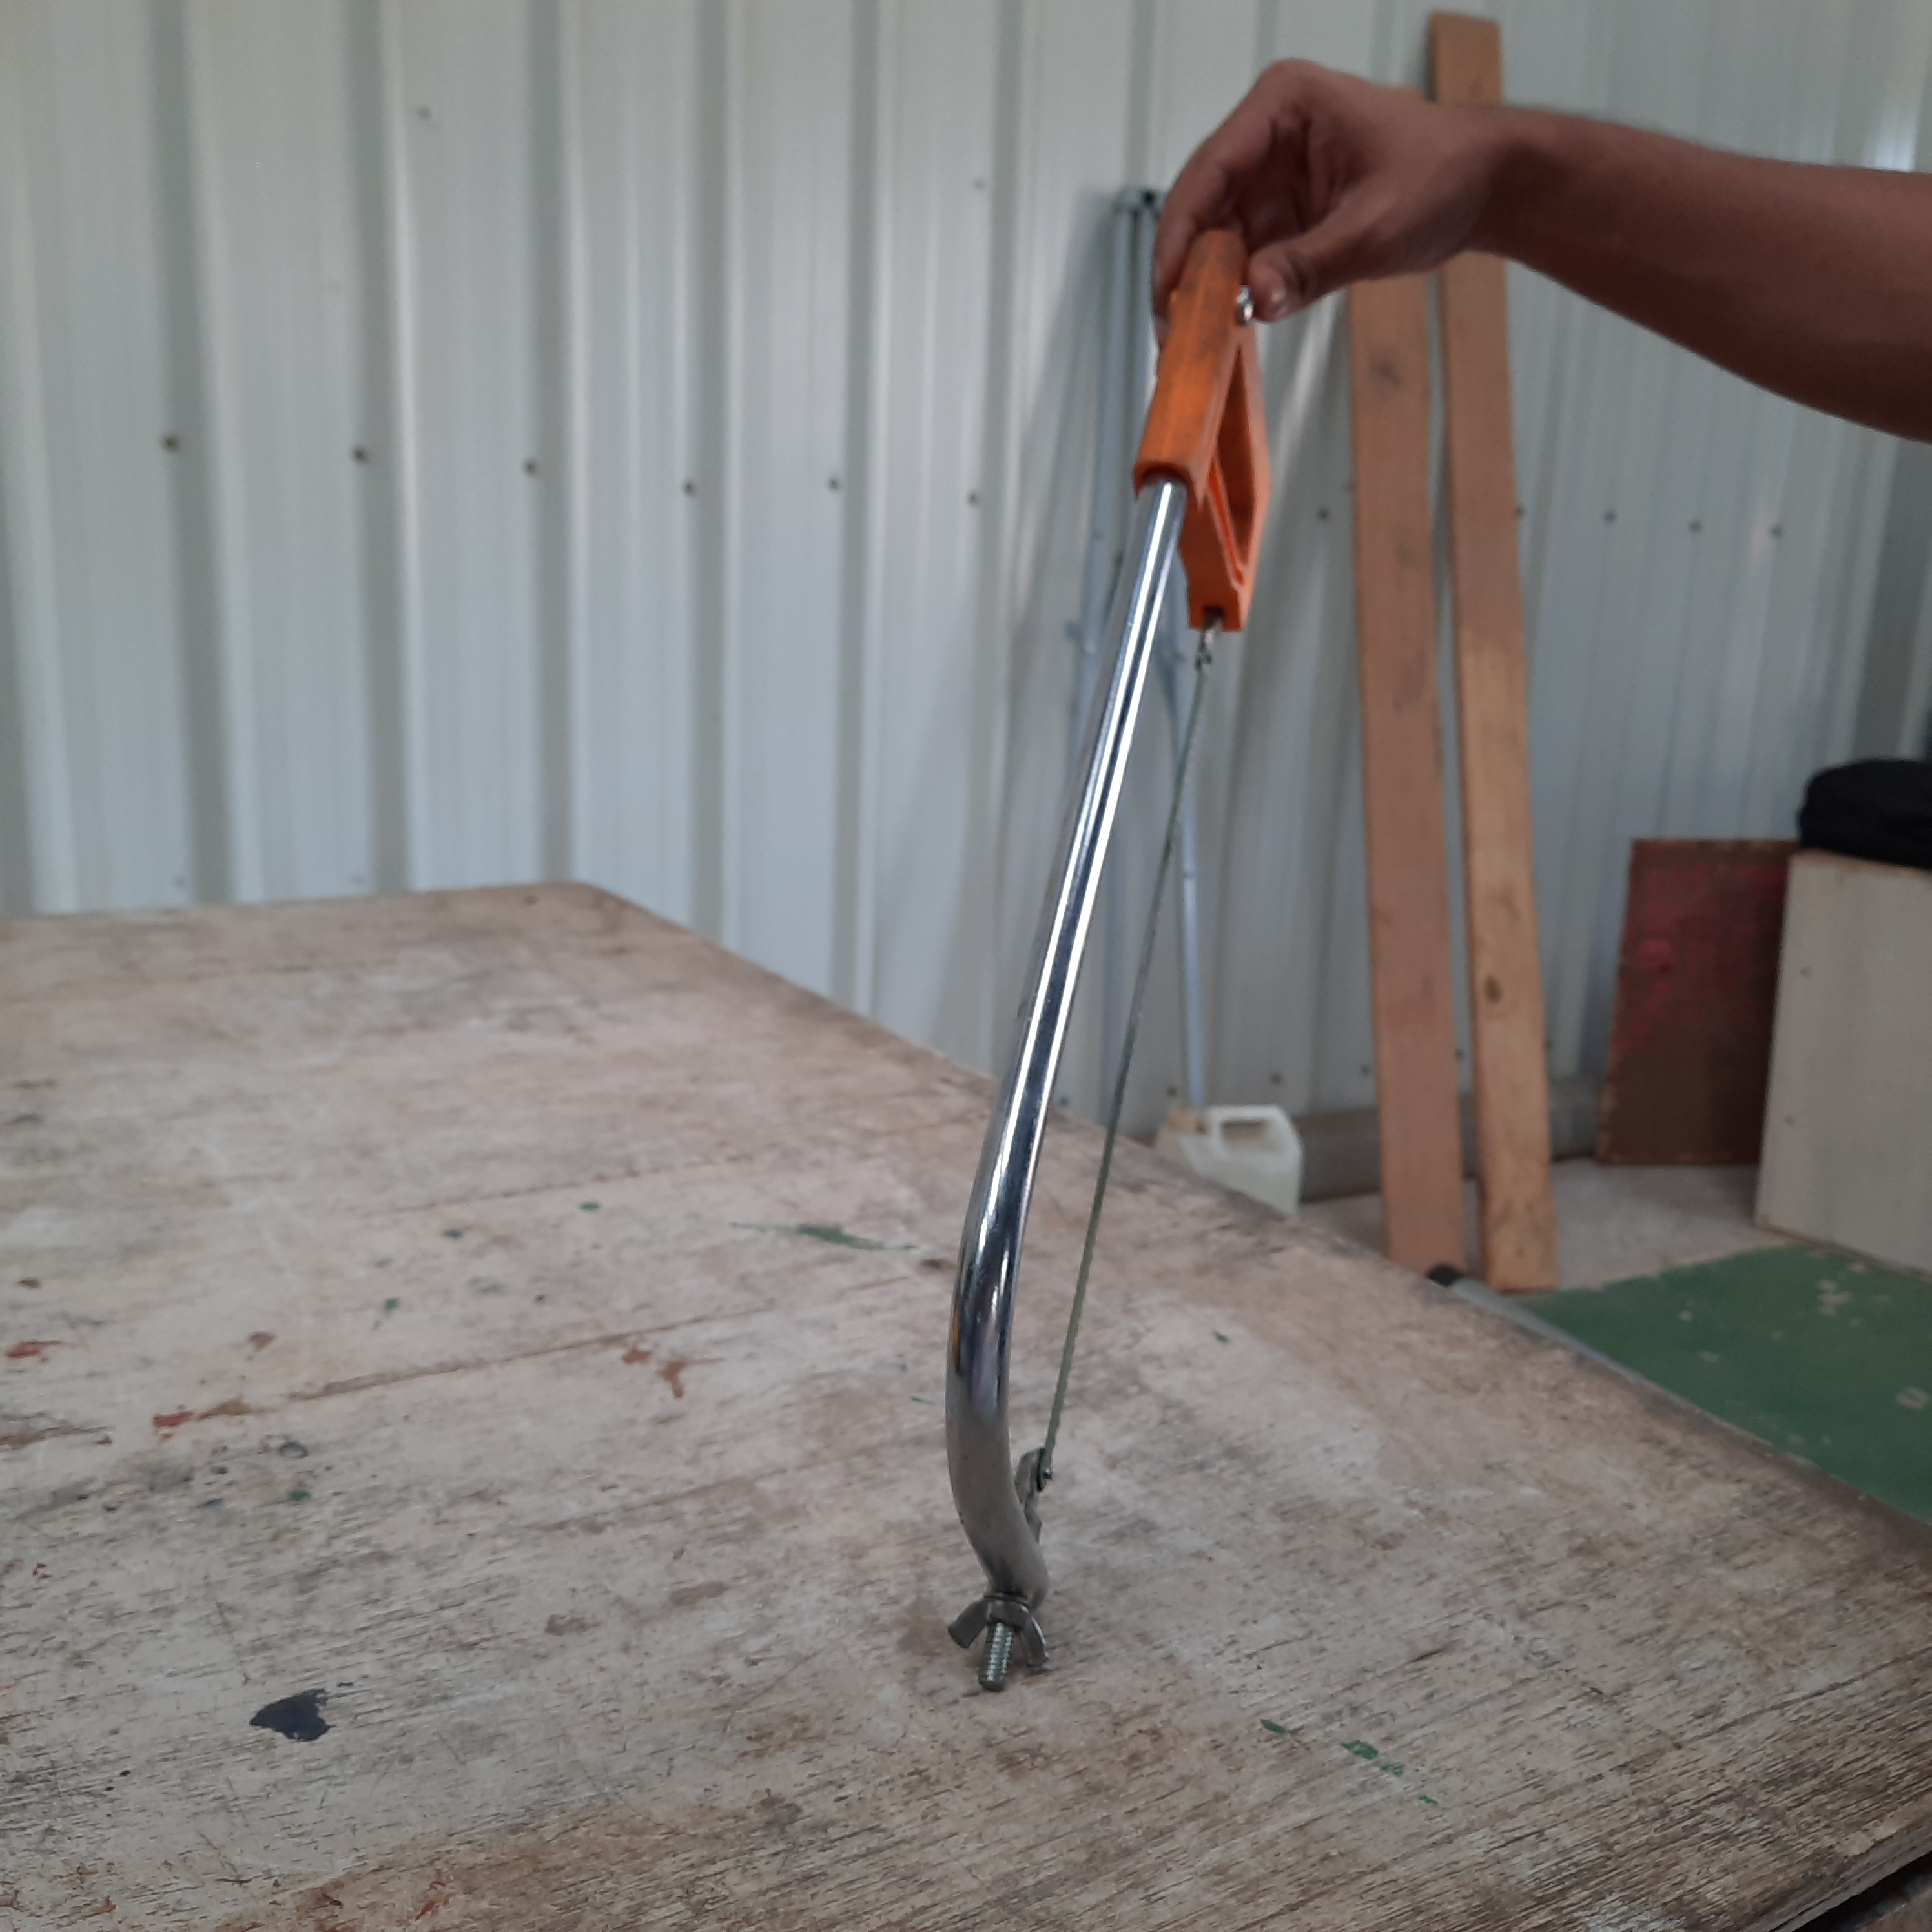Hexaframe: (883, 205, 1394, 1721)
